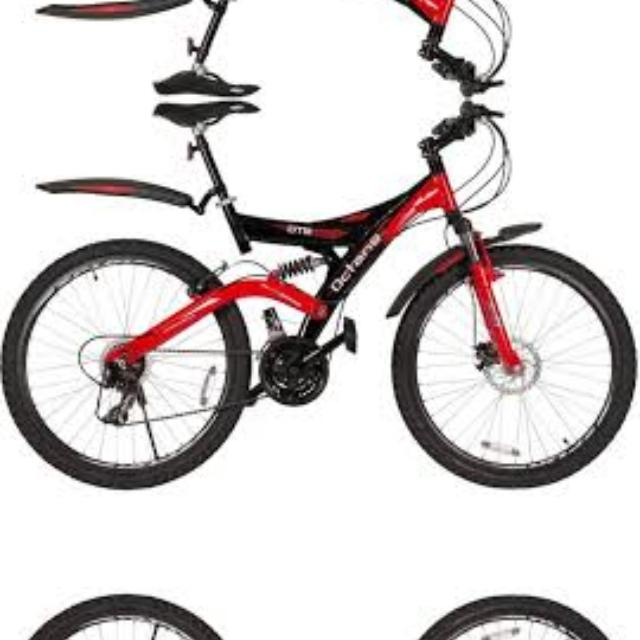obstacle: (7, 100, 640, 541), (7, 541, 640, 640), (7, 0, 640, 95)
